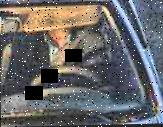seatbelt: (67, 21, 104, 66)
